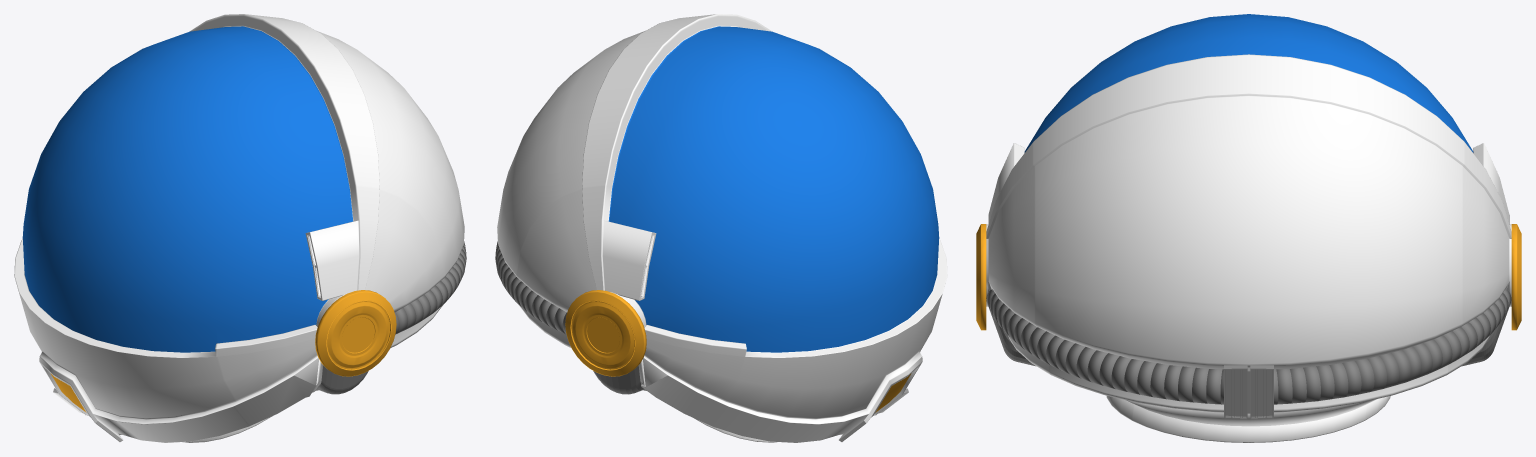
The model's file is Helmet.fbx.
The picture shows the model from 3 angles, left to right: view 1: azimuth 30°, elevation 25°; view 2: azimuth 150°, elevation 25°; view 3: azimuth 270°, elevation 25°; orthographic projection. The views are drawn at different scales.
Visible parts, largest first — view 1: Helmet, Cylinder, Cylinder.002, Helmet.003; view 2: Helmet, Cylinder.004, Cylinder.002, Helmet.004; view 3: Helmet, Cylinder.002, Cylinder.004, Cylinder, Helmet.004, Helmet.003.
Boxes of the visible parts, bbox=[...] form: Helmet: bbox=[14, 14, 464, 442]; Cylinder: bbox=[315, 290, 396, 376]; Cylinder.002: bbox=[395, 241, 466, 334]; Helmet.003: bbox=[316, 365, 368, 394]; Helmet: bbox=[497, 14, 947, 442]; Cylinder.004: bbox=[565, 290, 646, 376]; Cylinder.002: bbox=[495, 241, 566, 334]; Helmet.004: bbox=[593, 365, 646, 394]; Helmet: bbox=[986, 14, 1511, 442]; Cylinder.002: bbox=[986, 287, 1511, 419]; Cylinder.004: bbox=[1511, 224, 1521, 330]; Cylinder: bbox=[976, 224, 986, 330]; Helmet.004: bbox=[1462, 281, 1509, 366]; Helmet.003: bbox=[988, 281, 1035, 366].
Bounding box in the file's own units: 201 × 180 × 207.
